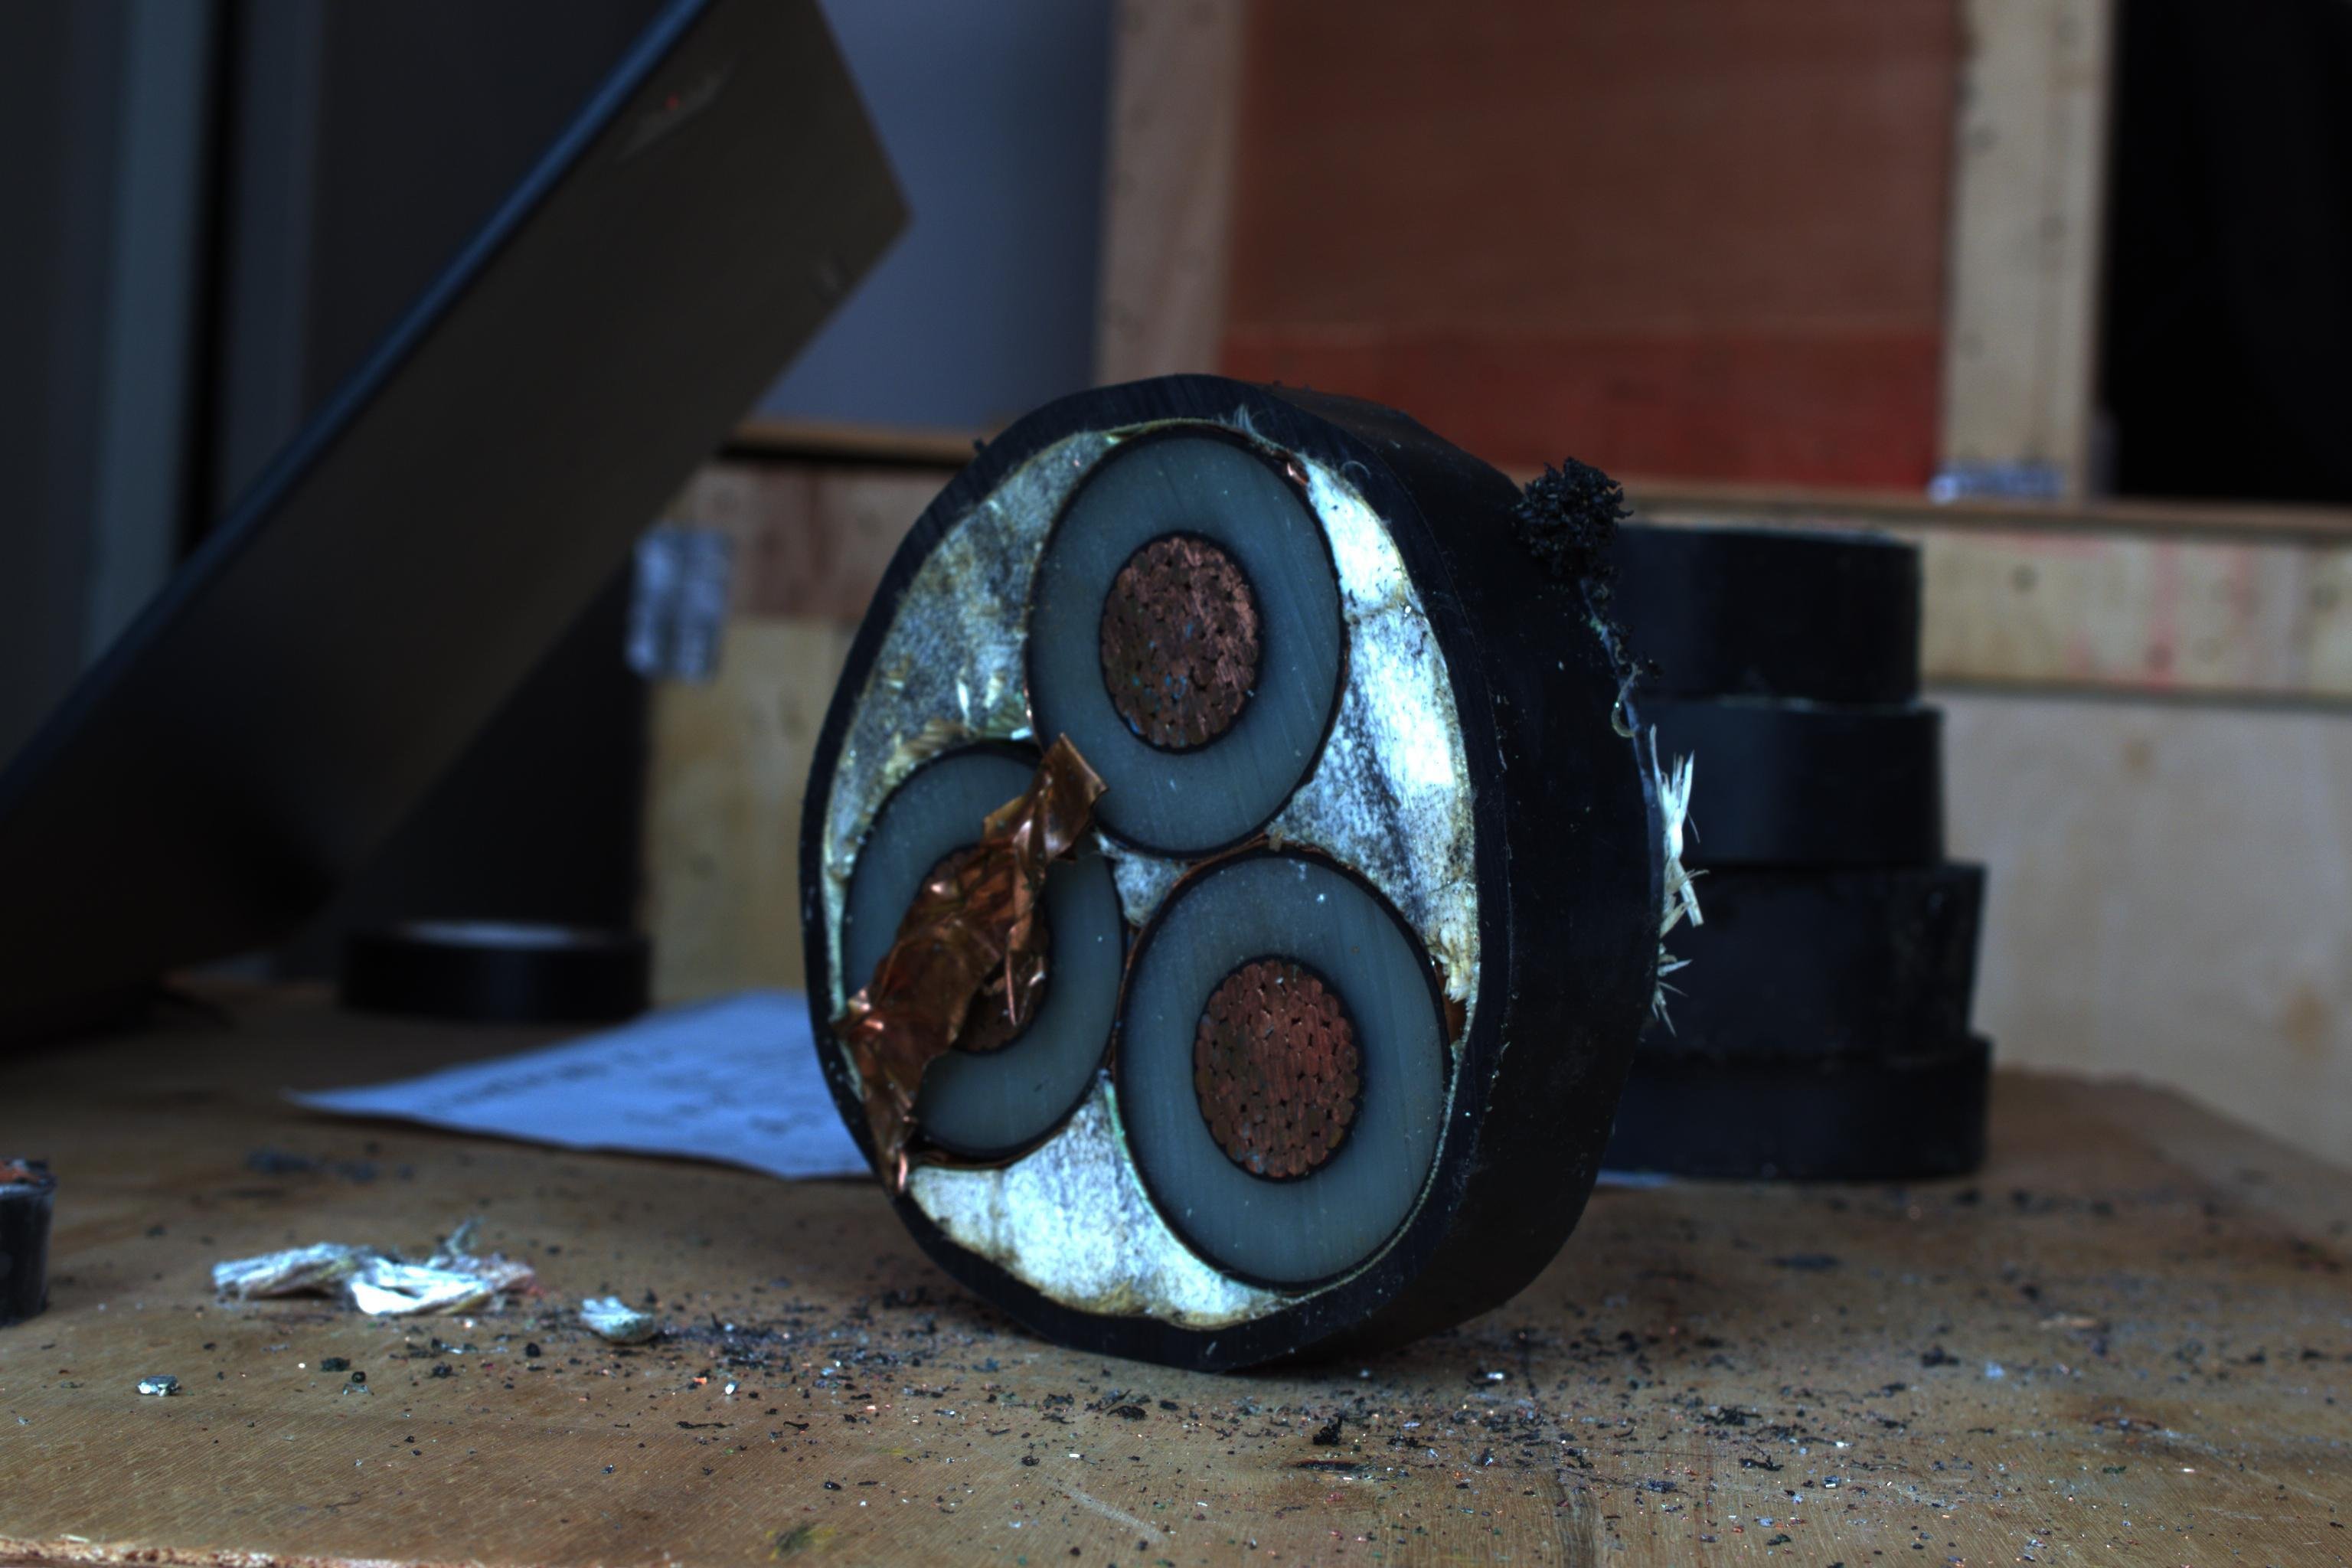ZA_YJV_26_35kV_3x400: (717, 388, 1505, 1340)
